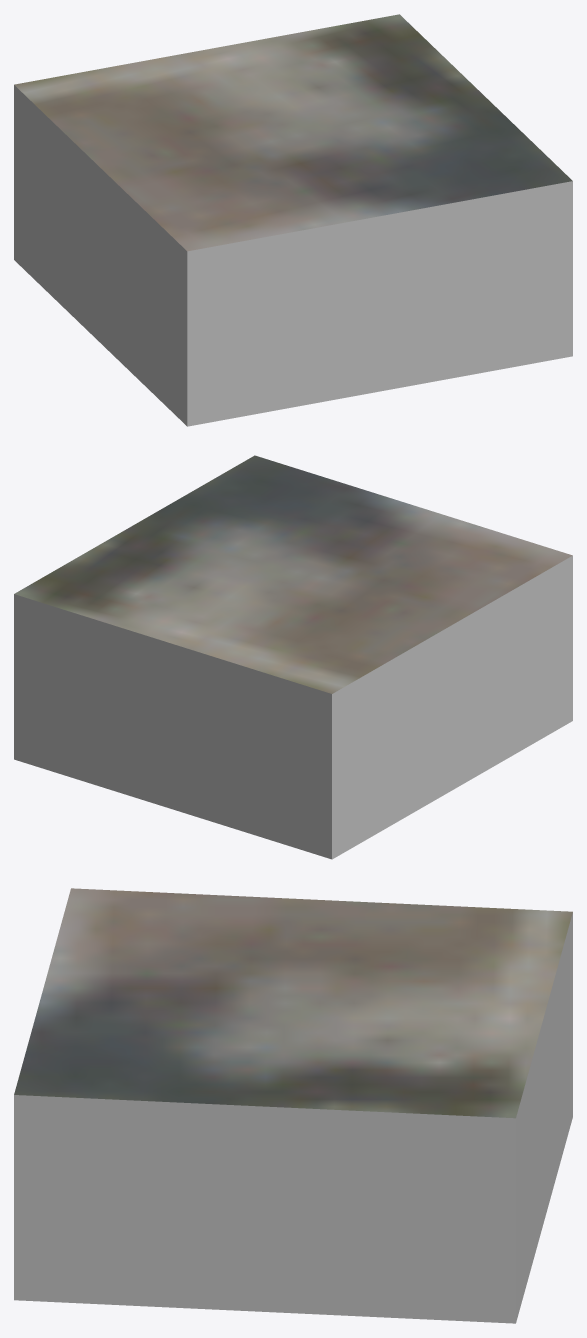
The model's file is DEBW_0010007Tx4l.gltf.
3 views of the same model, one above another, from view 1: azimuth 30°, elevation 25°; view 2: azimuth 150°, elevation 25°; view 3: azimuth 270°, elevation 25° (orthographic). The views are drawn at different scales.
Parts seen in each view (by area): view 1: Z_UP; view 2: Z_UP; view 3: Z_UP.
Part boxes in pixels (<box>): Z_UP: <box>14,14,572,426</box>; Z_UP: <box>14,455,572,859</box>; Z_UP: <box>14,888,572,1323</box>.
Bounding box in the file's own units: 6.2 × 2.58 × 6.37.
Materials: 2 (1 with a texture image).
